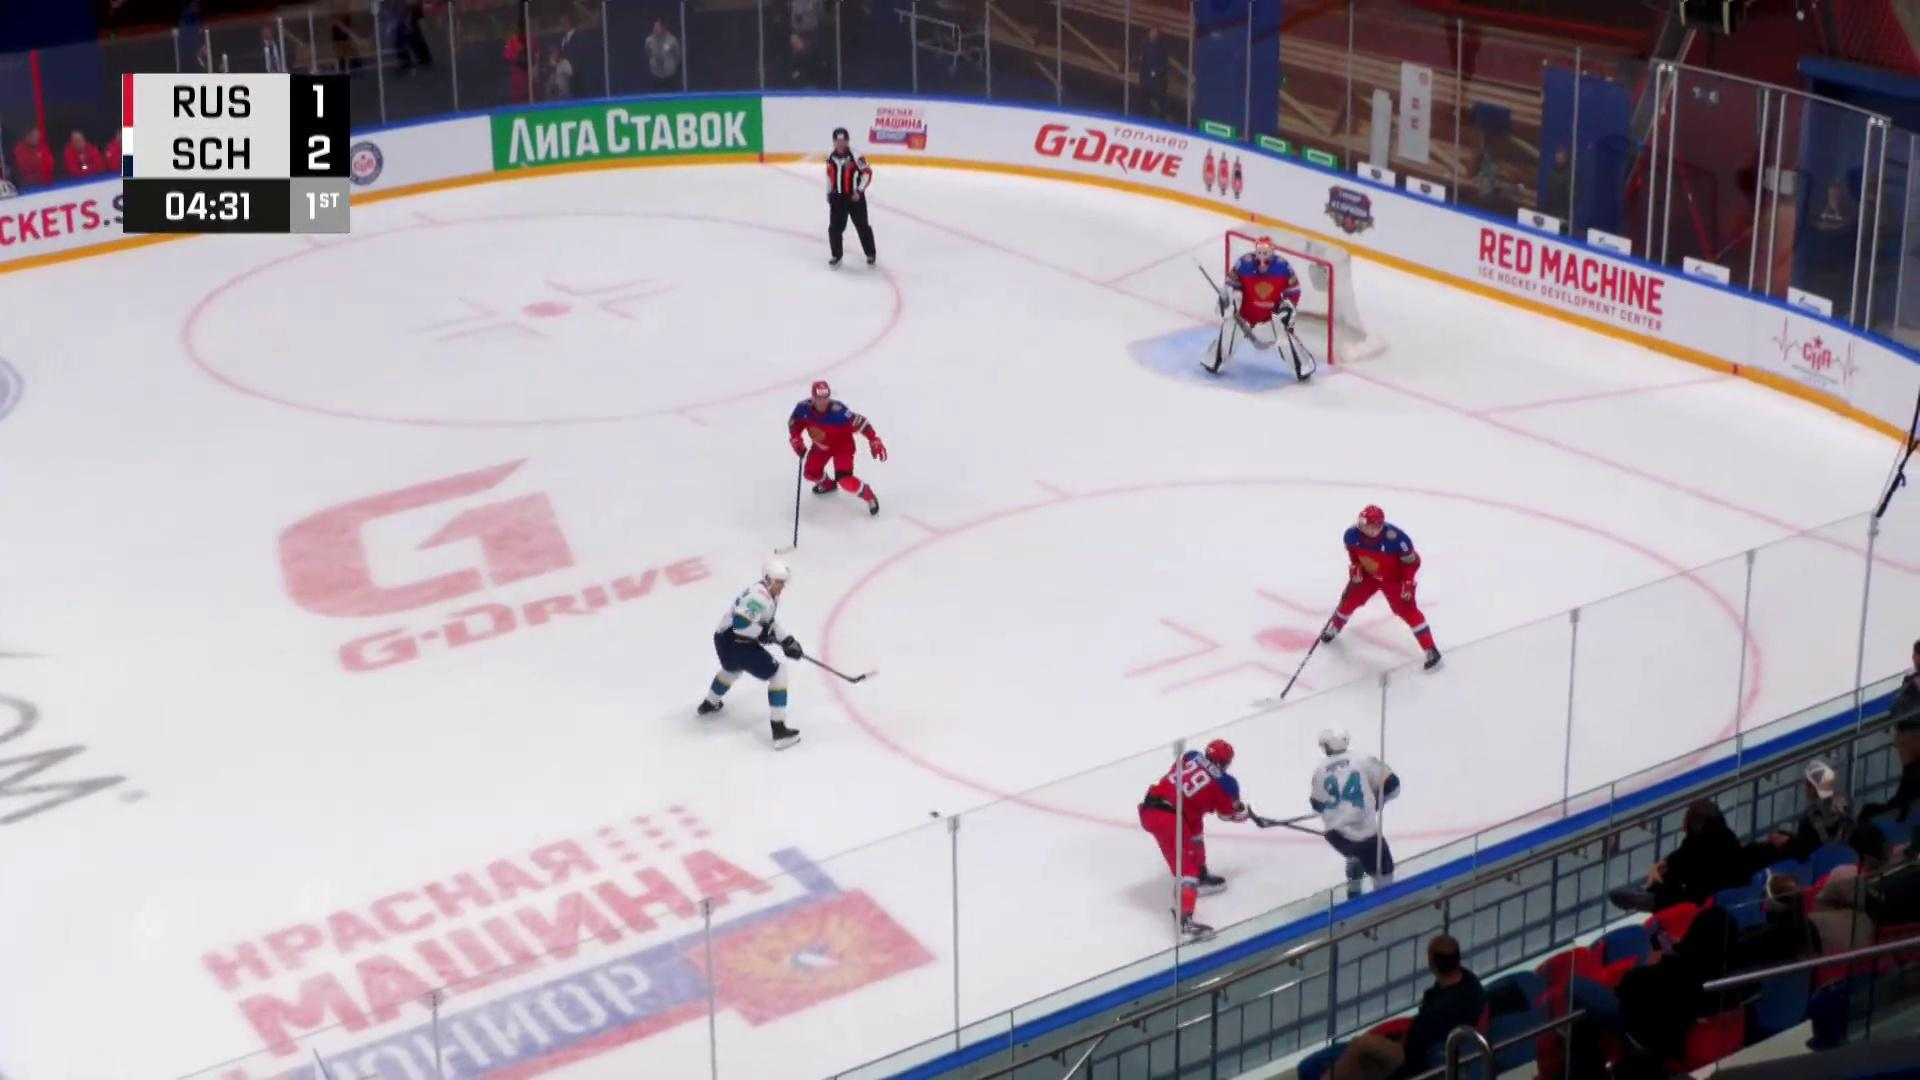ball: (928, 811, 942, 818)
